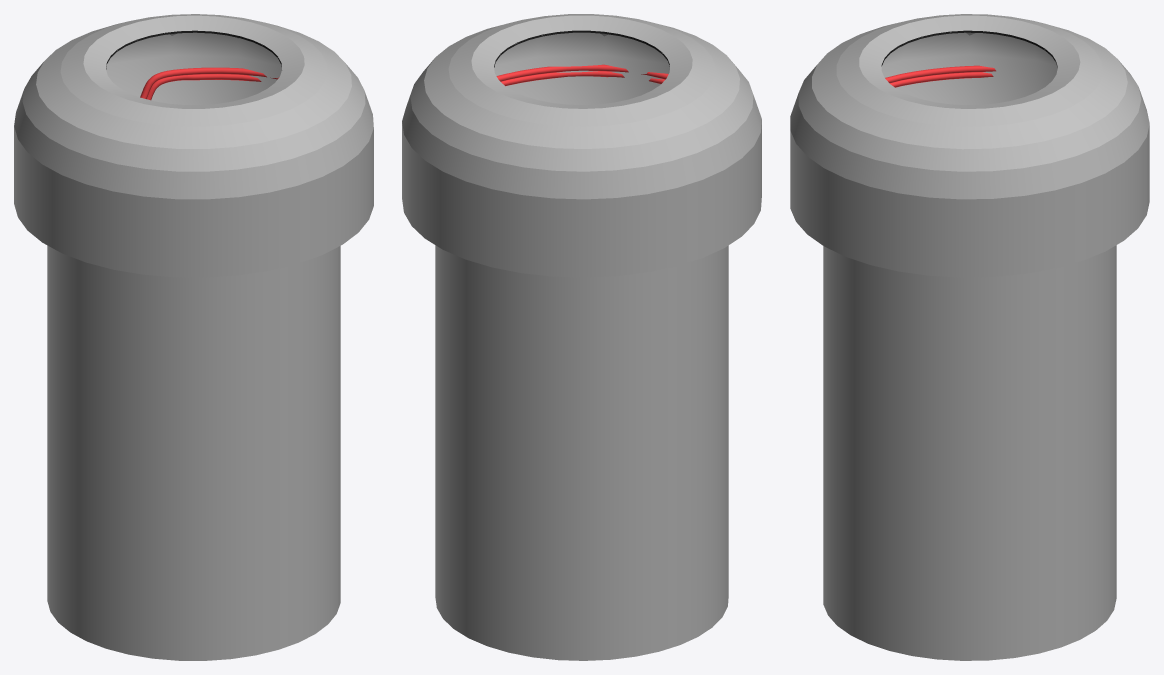
Rendered from Arena_Outer.fbx.
3 renders of one model, left to right at view 1: azimuth 30°, elevation 25°; view 2: azimuth 150°, elevation 25°; view 3: azimuth 270°, elevation 25°, orthographic.
Visible parts, largest first — view 1: Shadow, Cylinder.002, Floor; view 2: Shadow, Cylinder.002, Floor; view 3: Shadow, Cylinder.002, Floor.
Boxes of the visible parts, x1=… form: Shadow: x1=14, y1=14, x2=373, y2=660; Cylinder.002: x1=106, y1=32, x2=281, y2=105; Floor: x1=106, y1=30, x2=281, y2=100; Shadow: x1=402, y1=14, x2=761, y2=660; Cylinder.002: x1=494, y1=32, x2=669, y2=104; Floor: x1=494, y1=30, x2=669, y2=86; Shadow: x1=790, y1=14, x2=1149, y2=660; Cylinder.002: x1=881, y1=32, x2=1057, y2=105; Floor: x1=881, y1=30, x2=1057, y2=87.
Size of the model in its own units: 2725 by 4485 by 2722.
